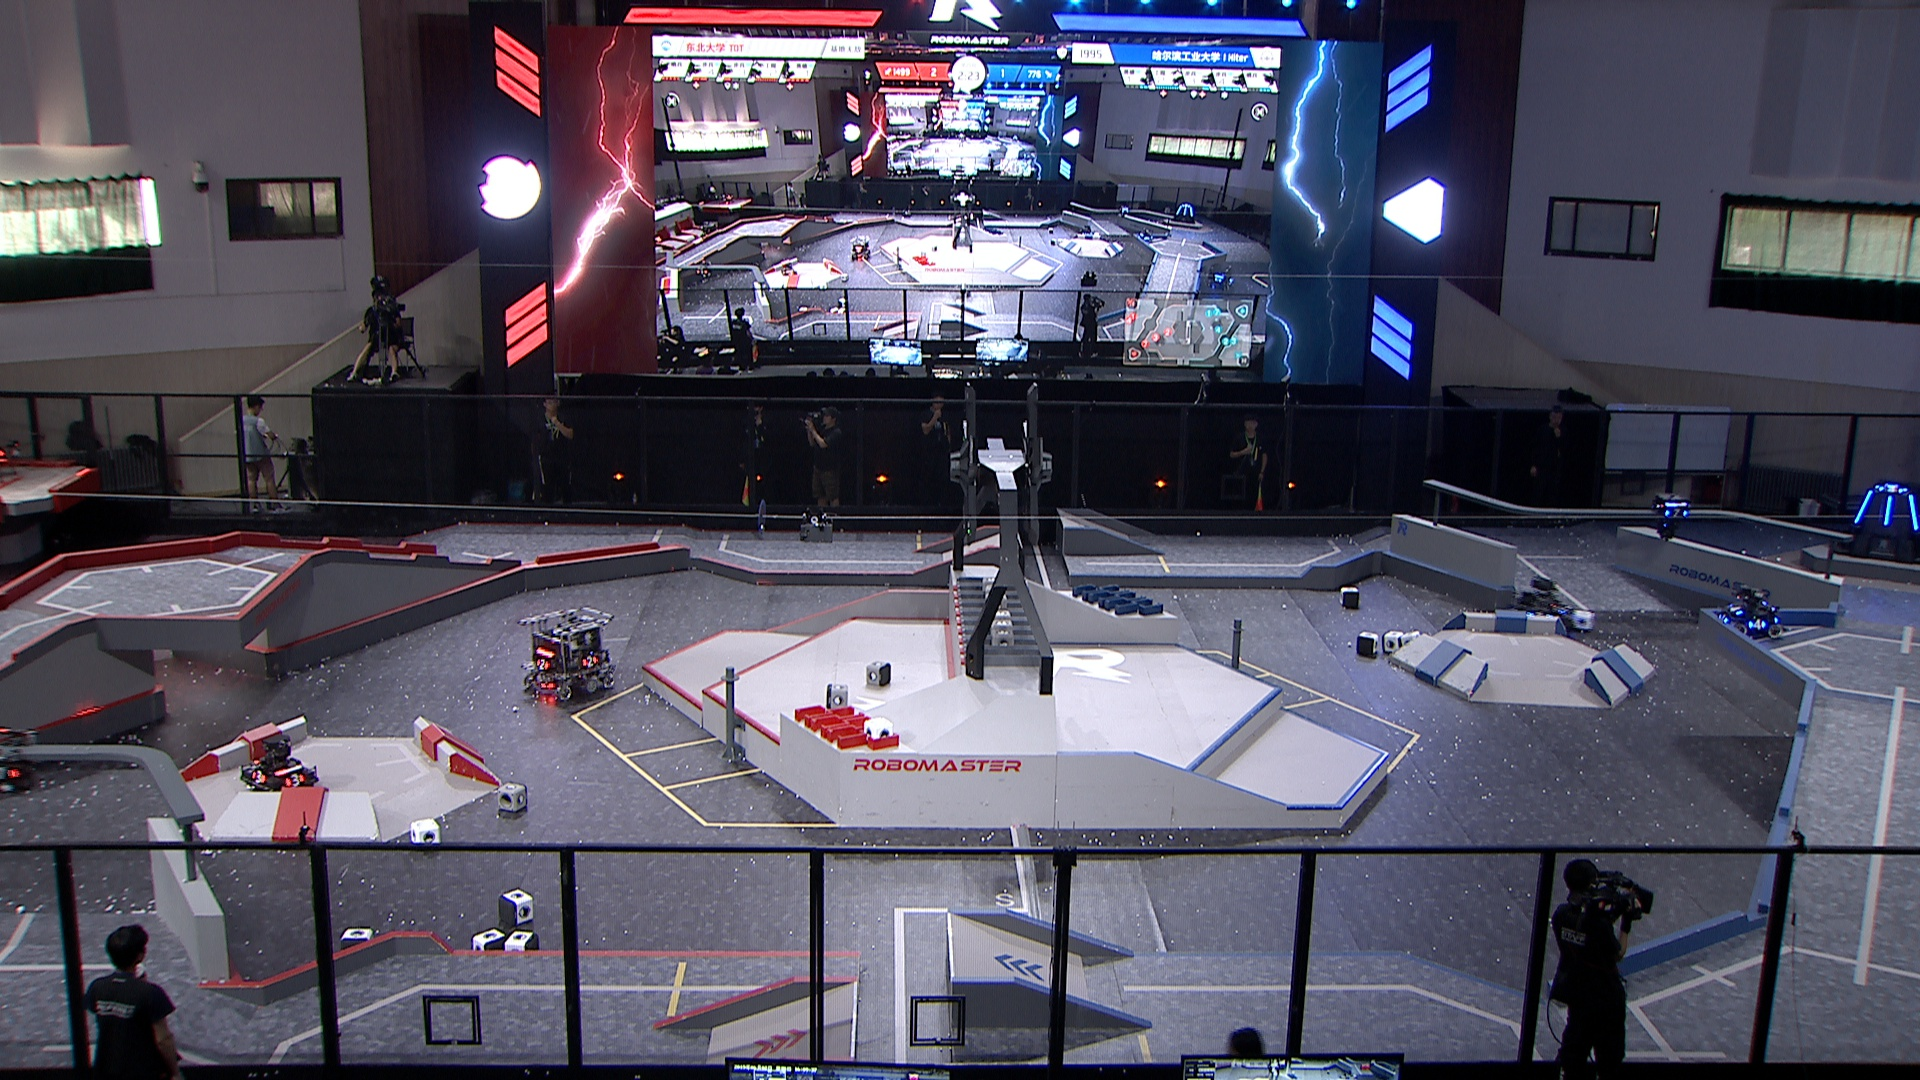armor: (1851, 488, 1876, 527), (1907, 491, 1920, 531), (1883, 495, 1896, 527), (284, 771, 305, 790), (1876, 483, 1905, 495), (1664, 506, 1689, 520), (249, 767, 266, 785), (580, 655, 600, 670), (1749, 618, 1768, 633), (1727, 603, 1745, 616), (535, 657, 551, 670), (1716, 613, 1731, 626)
base: (1832, 480, 1920, 564)
car: (517, 607, 615, 702), (237, 731, 320, 794), (1509, 575, 1576, 636), (1712, 585, 1784, 641)
ignore: (851, 235, 874, 262), (1172, 202, 1197, 225), (1209, 272, 1234, 294), (695, 258, 713, 281), (698, 219, 717, 237), (1076, 224, 1095, 239), (1139, 228, 1155, 244)
watcher: (1652, 491, 1692, 541)
